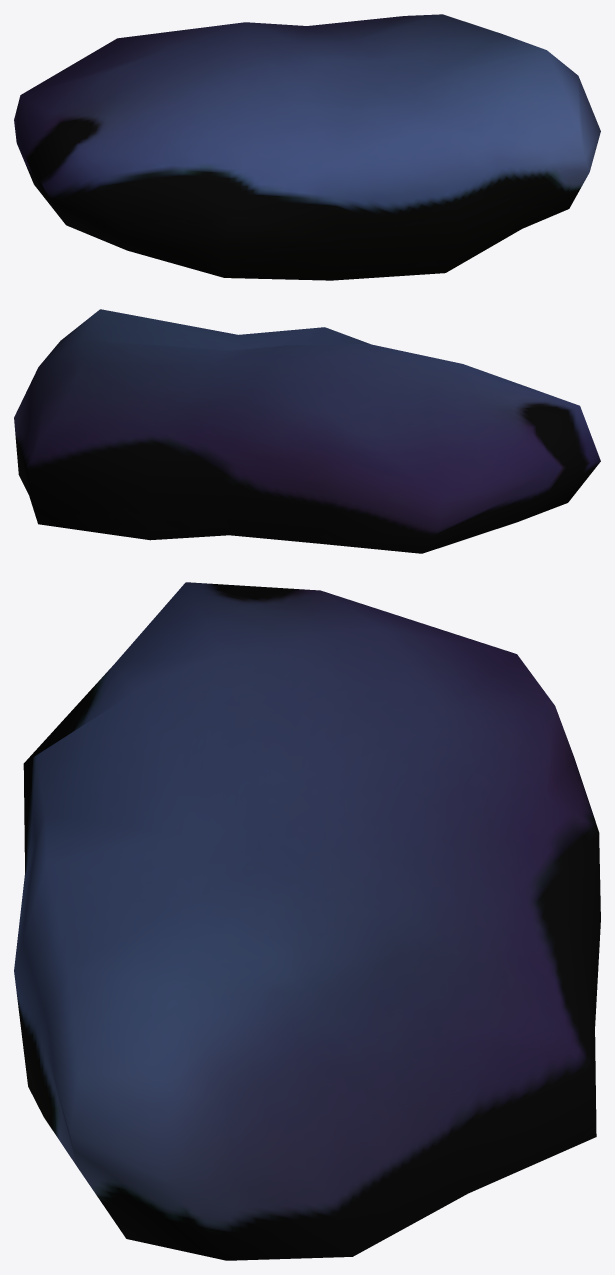
The model's file is Swamp_Rocks_3.glb.
3 renders of one model, top to bottom at view 1: azimuth 30°, elevation 25°; view 2: azimuth 150°, elevation 25°; view 3: azimuth 270°, elevation 25°, orthographic. The views are drawn at different scales.
Parts seen in each view (by area): view 1: Cube.010; view 2: Cube.010; view 3: Cube.010.
Boxes of the visible parts, bbox=[...] form: Cube.010: bbox=[14, 14, 600, 280]; Cube.010: bbox=[14, 309, 600, 553]; Cube.010: bbox=[14, 582, 600, 1260].
Bounding box in the file's own units: 86.89 × 31.24 × 47.97.
Materials: 1 (1 with a texture image).
